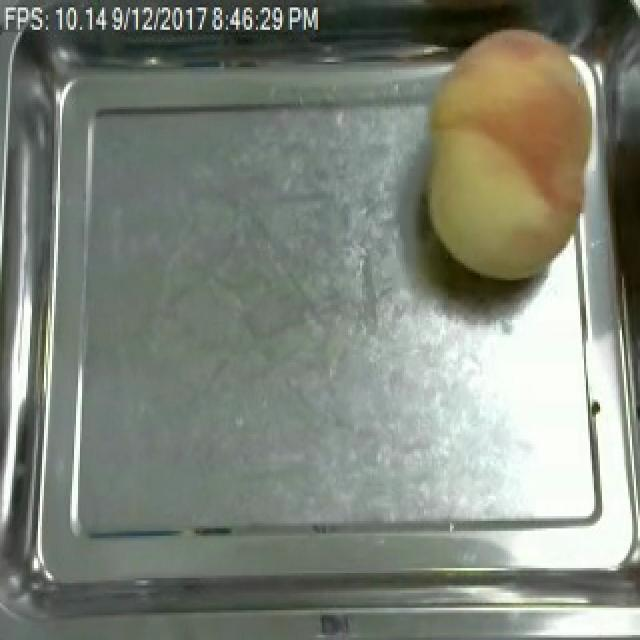Fruit: (404, 15, 620, 290)
